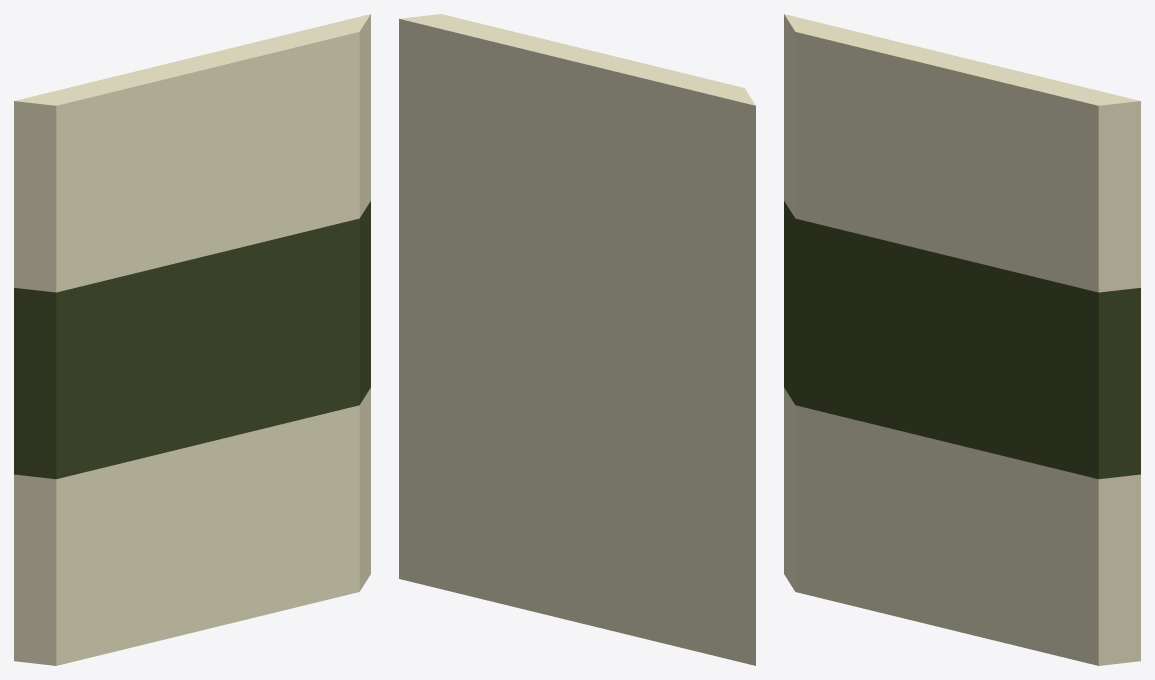
File: InteriorWall_Plain_B45_ExportPrep.gltf
3 renders of one model, left to right at view 1: azimuth 30°, elevation 25°; view 2: azimuth 150°, elevation 25°; view 3: azimuth 330°, elevation 25°, orthographic.
Visible parts, largest first — view 1: InteriorWall_Plain_B45; view 2: InteriorWall_Plain_B45; view 3: InteriorWall_Plain_B45.
Boxes of the visible parts, x1=… form: InteriorWall_Plain_B45: x1=14, y1=14, x2=370, y2=665; InteriorWall_Plain_B45: x1=399, y1=14, x2=755, y2=665; InteriorWall_Plain_B45: x1=784, y1=14, x2=1140, y2=665.
Size of the model in its own units: 2 by 3 by 0.15.
